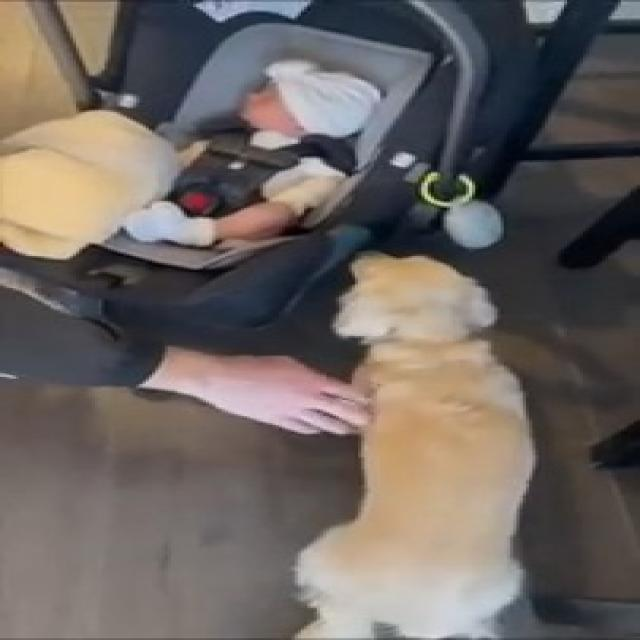dogs: (283, 237, 606, 640)
